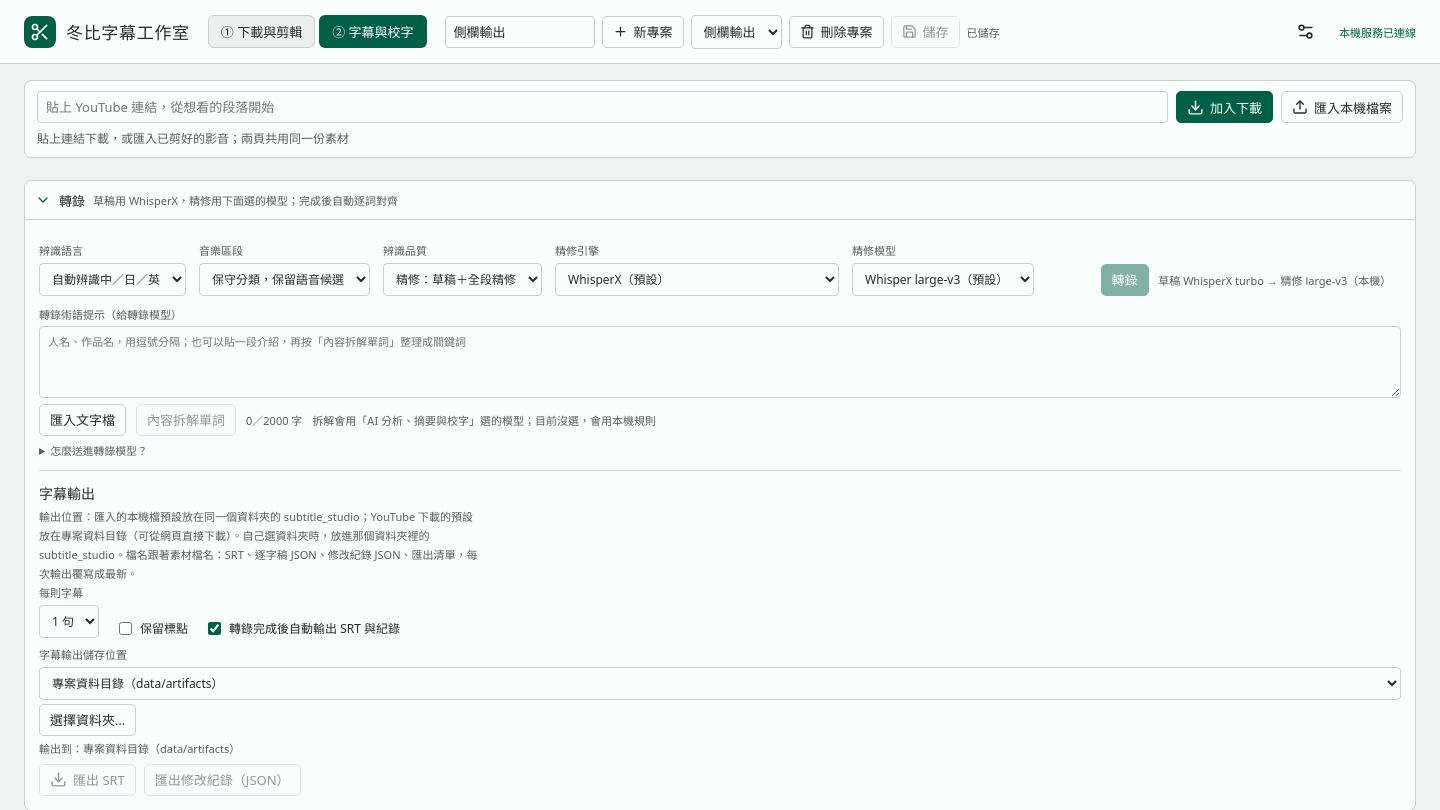
Scenario: picks another output folder through the native folder window instead of typing
Click the button with aria-label "選擇字幕輸出資料夾" at (88, 720), box x1=39 y1=704 x2=136 y2=736
(page scrolled)
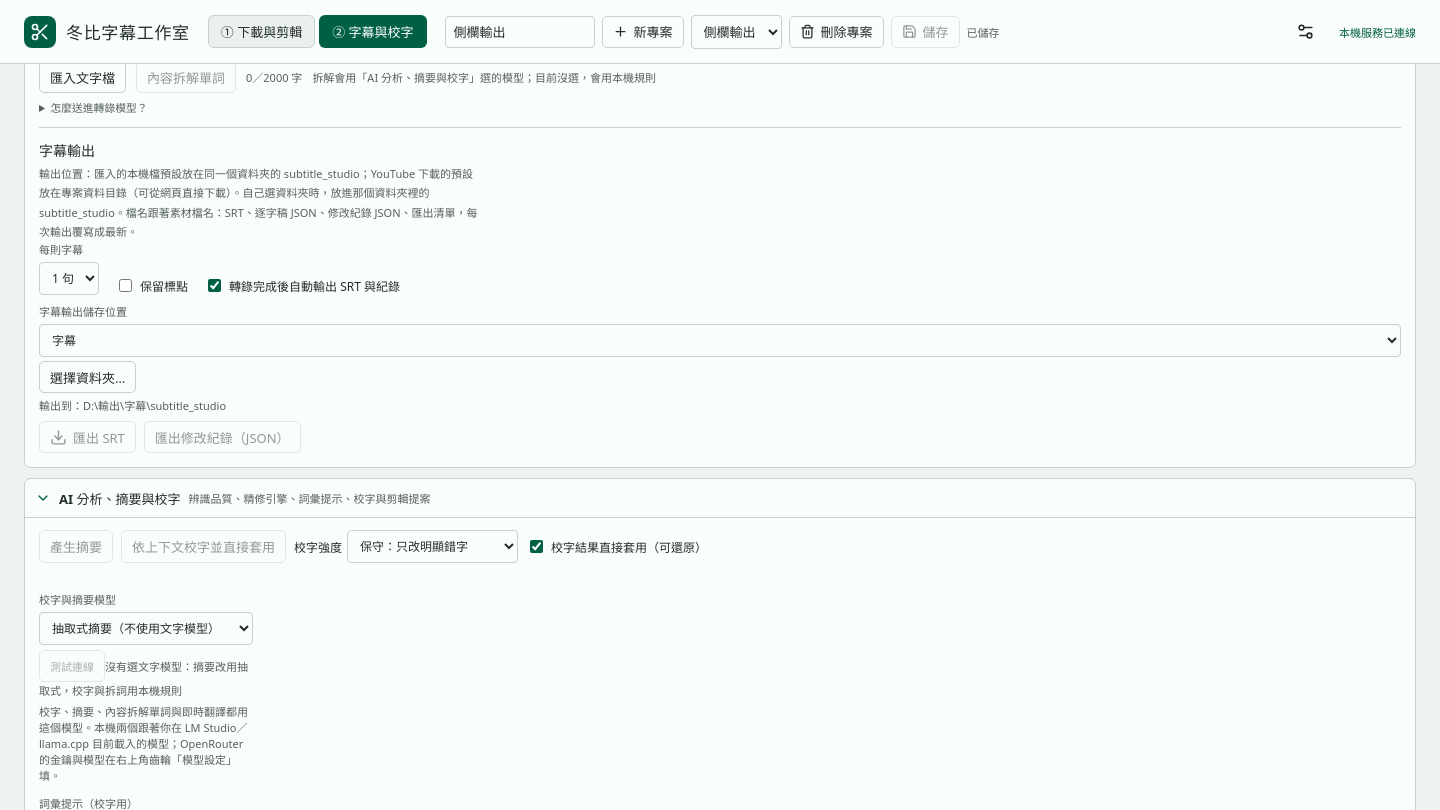
Result: the dropdown labelled "字幕輸出儲存位置" shows "字幕" at x1=39 y1=324 x2=1401 y2=357
Result: the text with class "output-root-path" shows "D:\\輸出\\字幕\\subtitle_studio" at x1=83 y1=398 x2=226 y2=413
